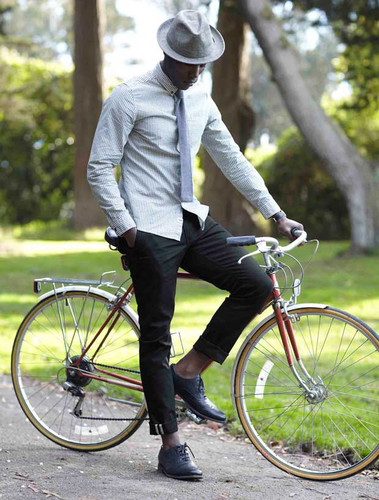bikerider: (20, 9, 379, 466)
